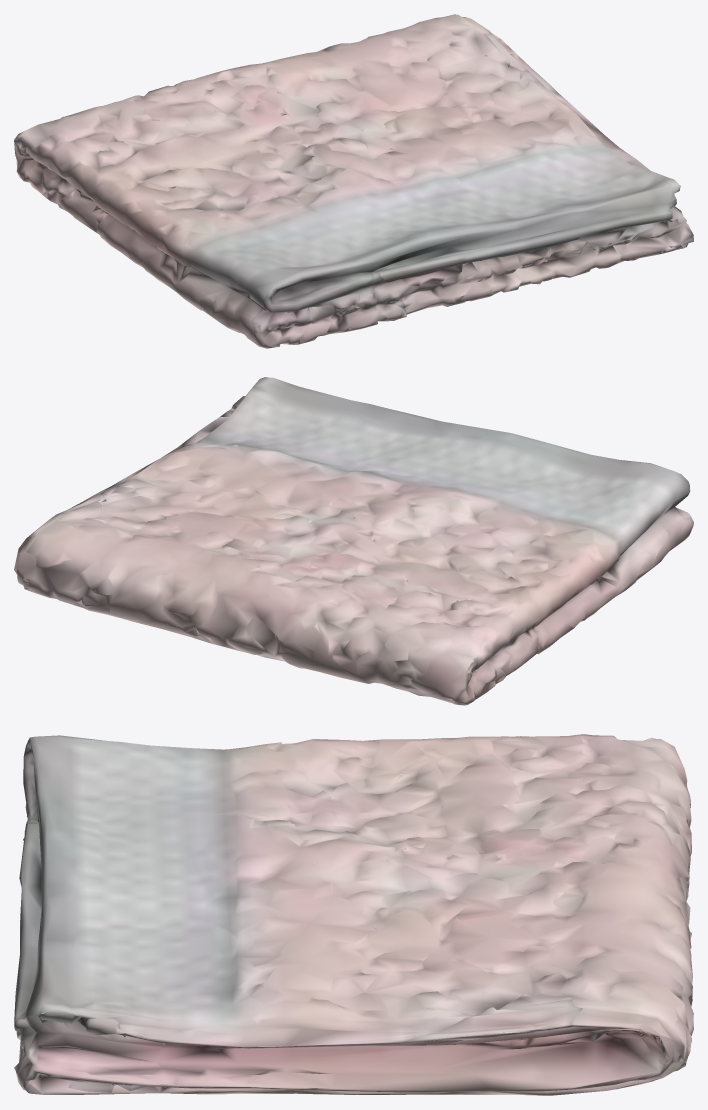
The model's file is Threshold_Textured_Damask_Bath_Towel_Pink-medium.glb.
3 renders of one model, top to bottom at view 1: azimuth 30°, elevation 25°; view 2: azimuth 150°, elevation 25°; view 3: azimuth 270°, elevation 25°, orthographic. The views are drawn at different scales.
Parts seen in each view (by area): view 1: Threshold_Textured_Damask_Bath_Towel_Pink; view 2: Threshold_Textured_Damask_Bath_Towel_Pink; view 3: Threshold_Textured_Damask_Bath_Towel_Pink.
Boxes of the visible parts, left/top/right/bottom form: Threshold_Textured_Damask_Bath_Towel_Pink: left=14, top=14, right=693, bottom=348; Threshold_Textured_Damask_Bath_Towel_Pink: left=14, top=377, right=693, bottom=705; Threshold_Textured_Damask_Bath_Towel_Pink: left=14, top=734, right=693, bottom=1095.
Size of the model in its own units: 0.3564 by 0.0574 by 0.3399.
Materials: 1 (1 with a texture image).
